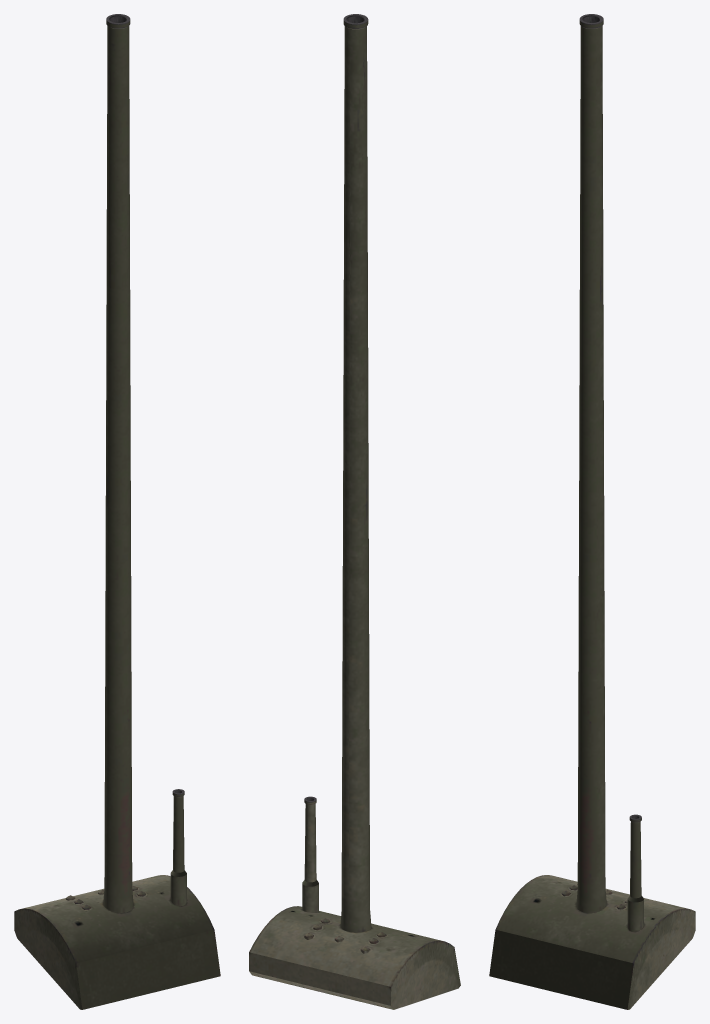
File: Gun_12.glb
3 renders of one model, left to right at view 1: azimuth 30°, elevation 25°; view 2: azimuth 150°, elevation 25°; view 3: azimuth 330°, elevation 25°, orthographic. The views are drawn at different scales.
Parts seen in each view (by area): view 1: set_0_group_0; view 2: set_0_group_0; view 3: set_0_group_0.
Part boxes in pixels (x1,y1,x2,y2): set_0_group_0: [14, 14, 220, 1009]; set_0_group_0: [249, 14, 460, 1009]; set_0_group_0: [489, 14, 695, 1009].
Size of the model in its own units: 0.9947 by 6.53 by 0.8502.
Materials: 1 (1 with a texture image).
